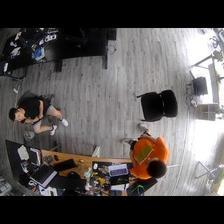normal: (120, 121, 172, 181), (9, 93, 71, 142)
